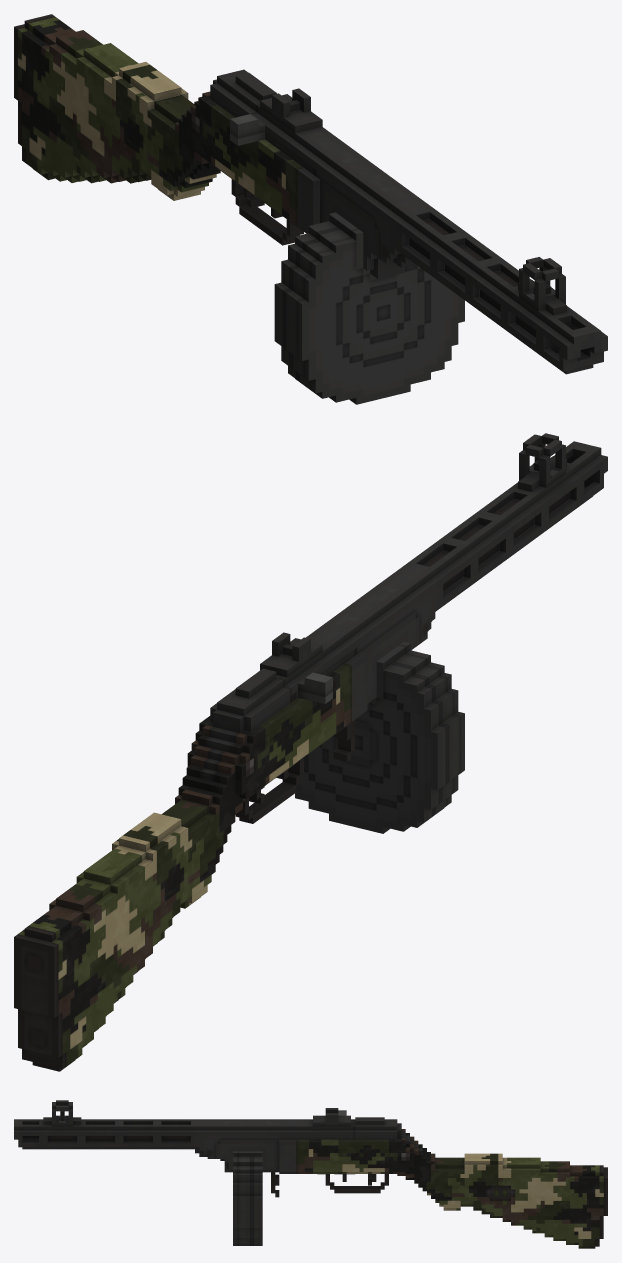
File: RD_PPSH_MILITARY1945.glb
The picture shows the model from 3 angles, top to bottom: view 1: azimuth 30°, elevation 25°; view 2: azimuth 150°, elevation 25°; view 3: azimuth 270°, elevation 25°; orthographic projection. The views are drawn at different scales.
Visible parts, largest first — view 1: PPSH, PPSH_CLIP, PPSH_BOLT; view 2: PPSH, PPSH_CLIP, PPSH_BOLT; view 3: PPSH, PPSH_CLIP.
Part boxes in pixels (<box>): PPSH: <box>14,14,607,374</box>; PPSH_CLIP: <box>274,212,464,404</box>; PPSH_BOLT: <box>230,114,264,145</box>; PPSH: <box>14,433,607,1071</box>; PPSH_CLIP: <box>295,641,464,833</box>; PPSH_BOLT: <box>298,672,332,704</box>; PPSH: <box>14,1100,607,1248</box>; PPSH_CLIP: <box>233,1151,262,1245</box>.
Size of the model in its own units: 0.2362 by 0.3642 by 1.39.
1 material, 1 textured.
